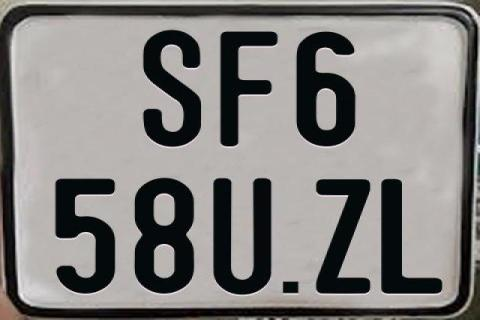0: (134, 177, 198, 295), (295, 30, 360, 146), (54, 177, 116, 295)
F: (220, 29, 282, 148)
L: (381, 179, 444, 293)
S: (143, 28, 201, 145)
U: (212, 178, 272, 296)
Z: (315, 177, 370, 295)
